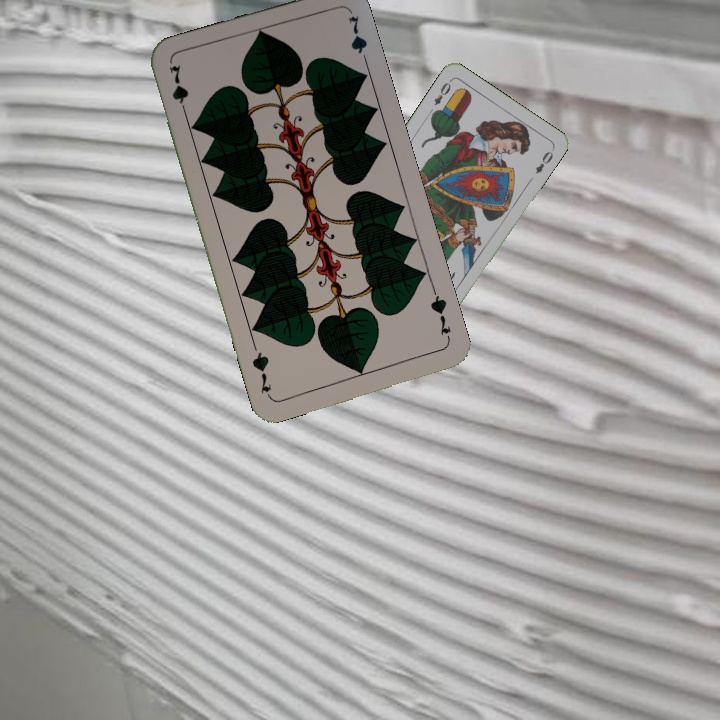EO: (430, 75, 454, 108)
G7: (426, 286, 454, 344), (164, 61, 191, 120)
